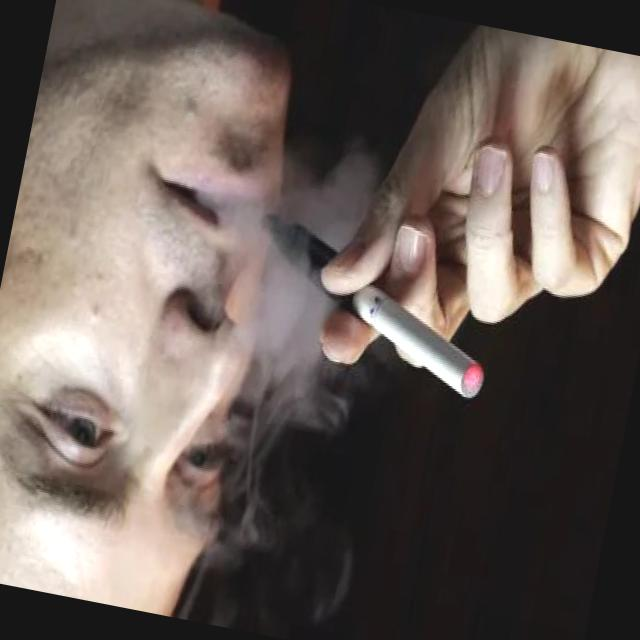cigarette: (234, 205, 508, 402)
